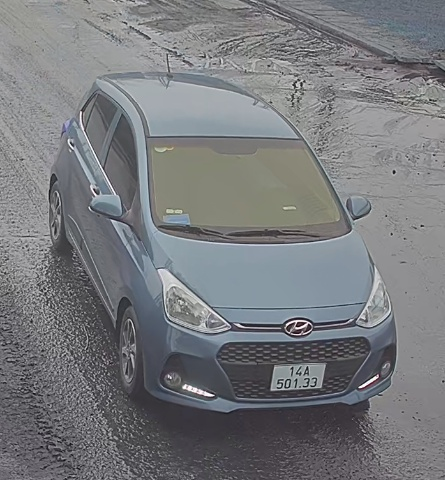vehicle plate: (263, 359, 330, 398)
